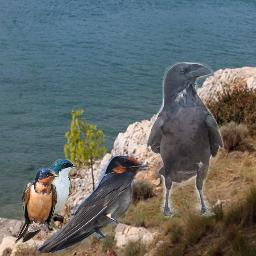Crow: (145, 62, 225, 218)
Swallow: (37, 155, 149, 253), (14, 159, 77, 245), (22, 168, 59, 233)
